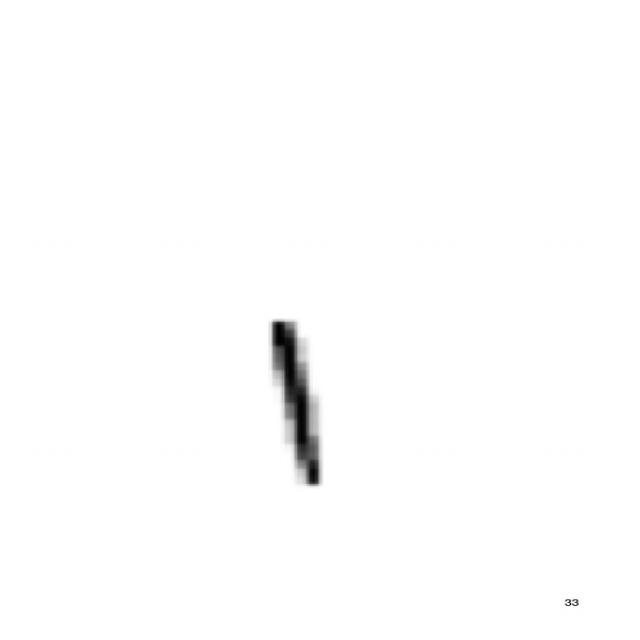1 -one-: (255, 304, 343, 494)
